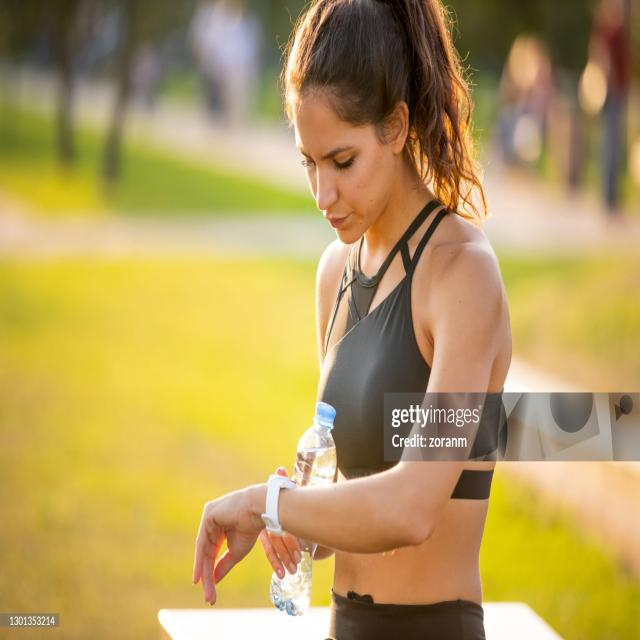bottle: (269, 404, 338, 618)
